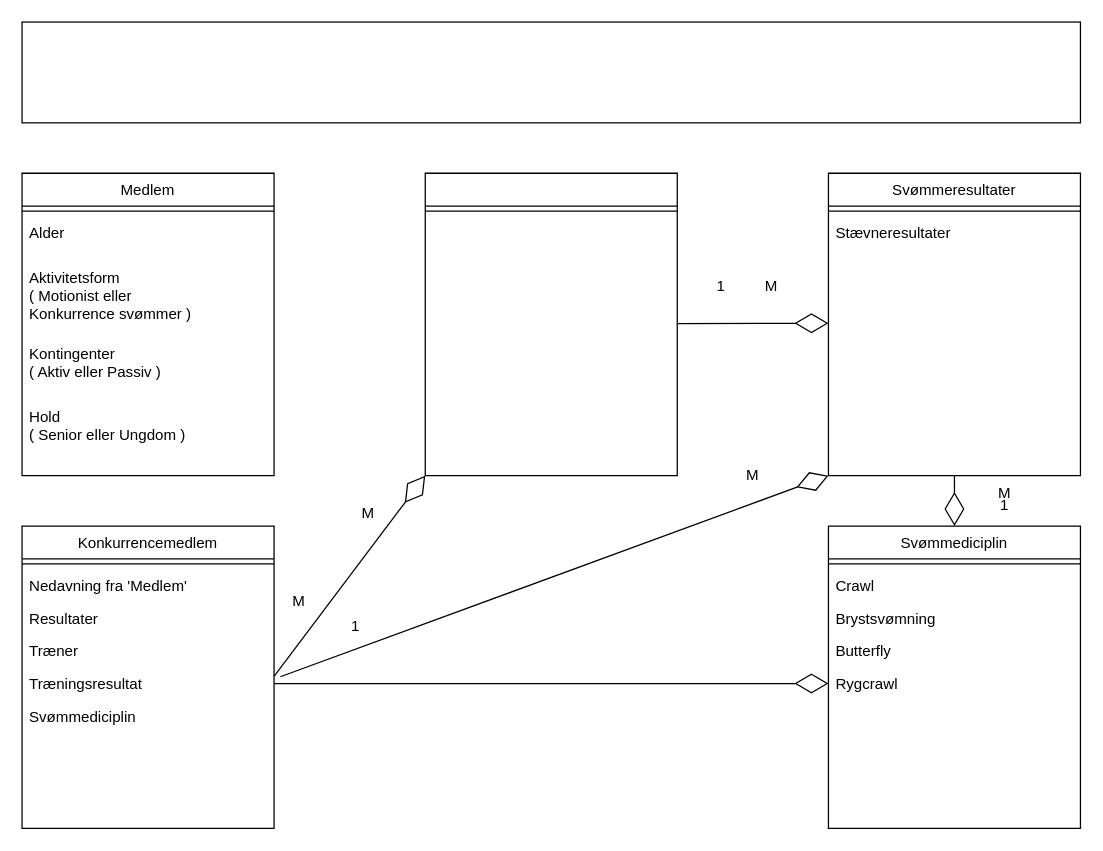
Image size: 1103x851. Some labels were removed from this diagram. The shapes that lost their labels are listed below. From the top down, each one's centre as x and y in pixels, then its label:
point 550,72: DELFINEN DOMAIN MODEL
point 550,324: Konkurrence
